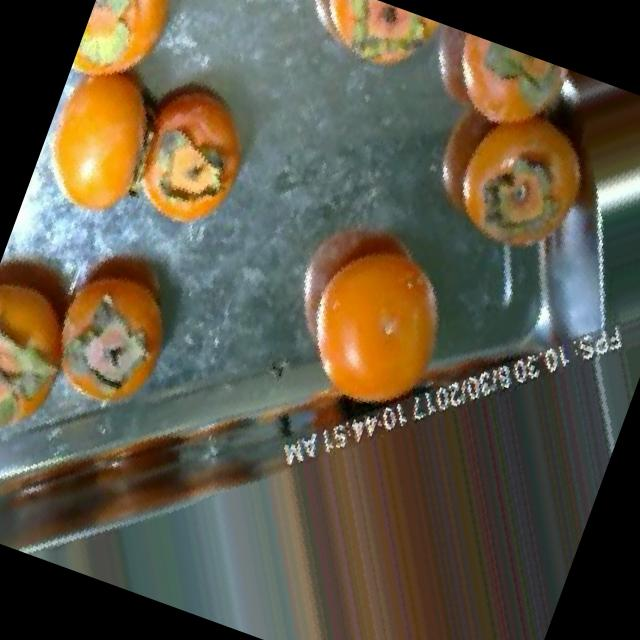Fruit: (245, 169, 508, 452), (14, 208, 213, 436), (100, 48, 284, 260), (20, 34, 191, 248), (504, 61, 640, 238)
